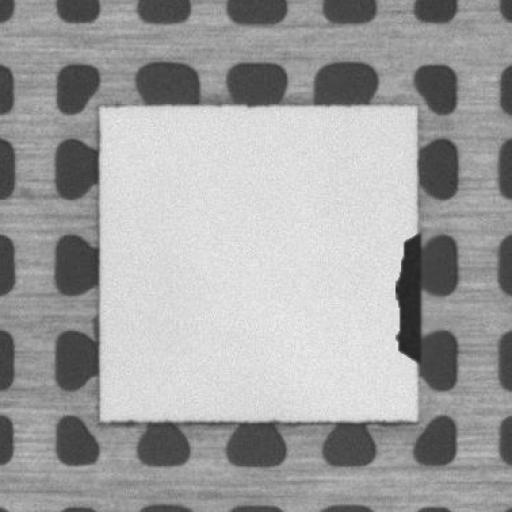DIE_BROKEN: (390, 227, 423, 365)
